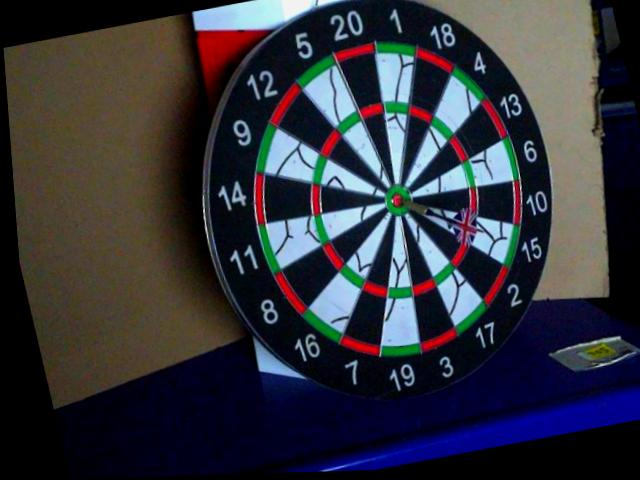bullseye: (386, 187, 413, 215)
